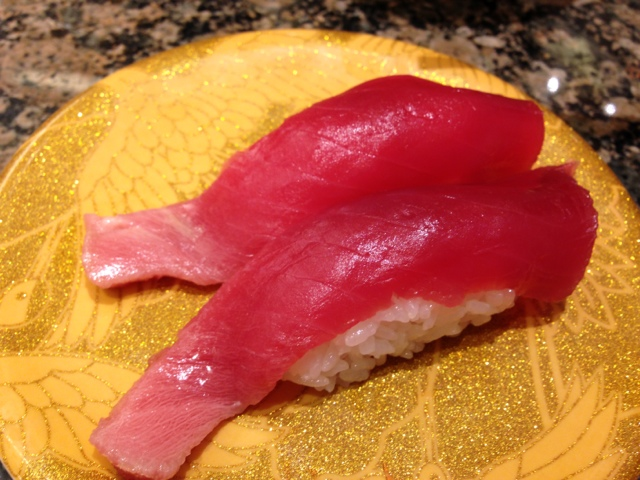medium_fatty_tuna: (111, 172, 594, 389), (127, 69, 528, 267)
